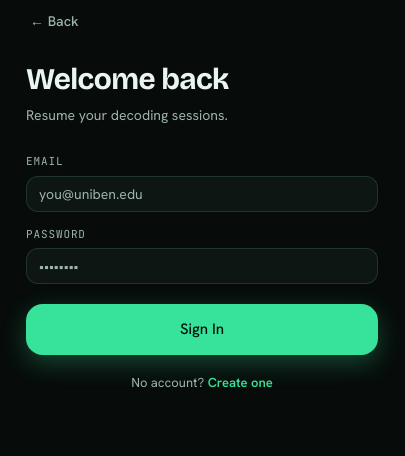
Scenario: signing in › clears a stale error when the user tries again
Type "ada@uniben.edu" into the field labelled "EMAIL" at (202, 194), box [26,176,378,212]
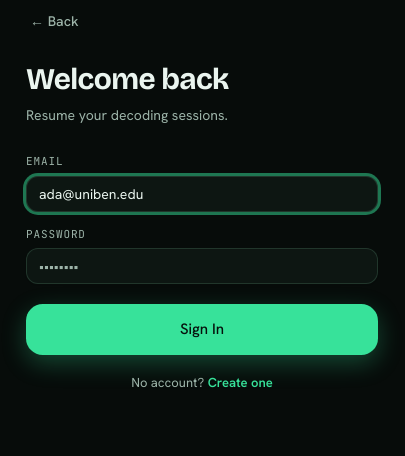
Type "wrong-password" into the password field labelled "PASSWORD" at (202, 266), box [26,248,378,284]
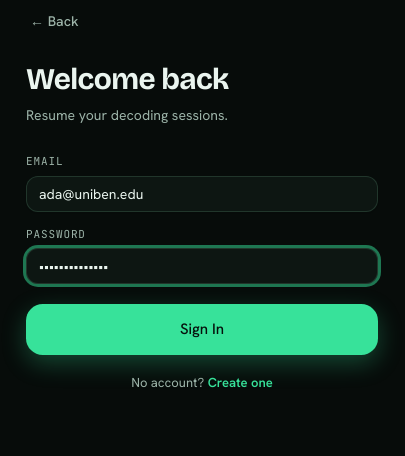
Click the button "Sign In" at (202, 329), box [26,304,378,354]
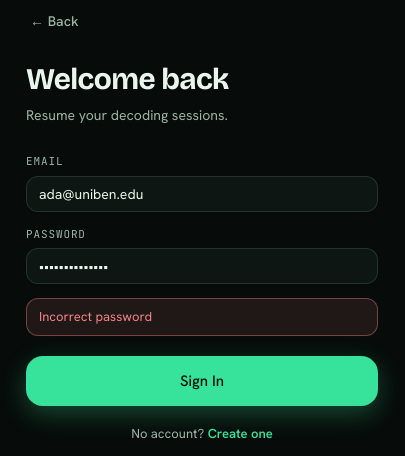
Expected: the message "Incorrect password" is shown, [26,298,378,336]
Type "-correct" into the password field labelled "PASSWORD" at (202, 266), box [26,248,378,284]
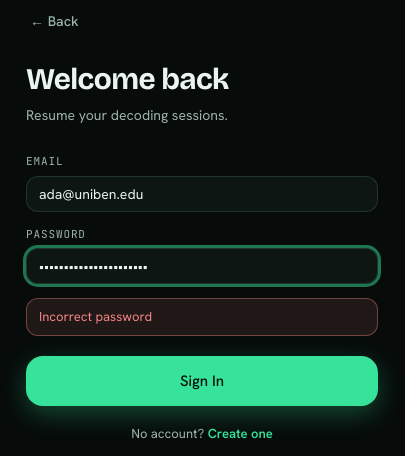
Click the button "Sign In" at (202, 381), box [26,356,378,406]
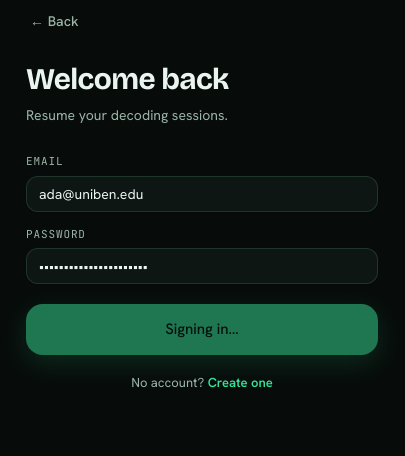
Expected: the message "Incorrect password" is gone
